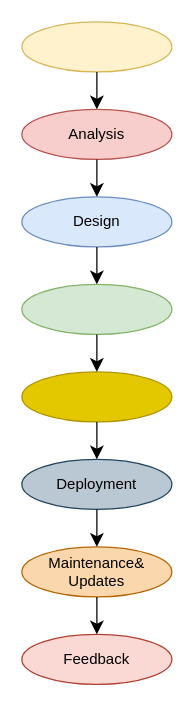
This 194x706 diagram has some shape labels left out. Each missing label, with the centre of its shape:
Development: point (96, 308)
Requirement: point (96, 46)
Testing: point (96, 396)
